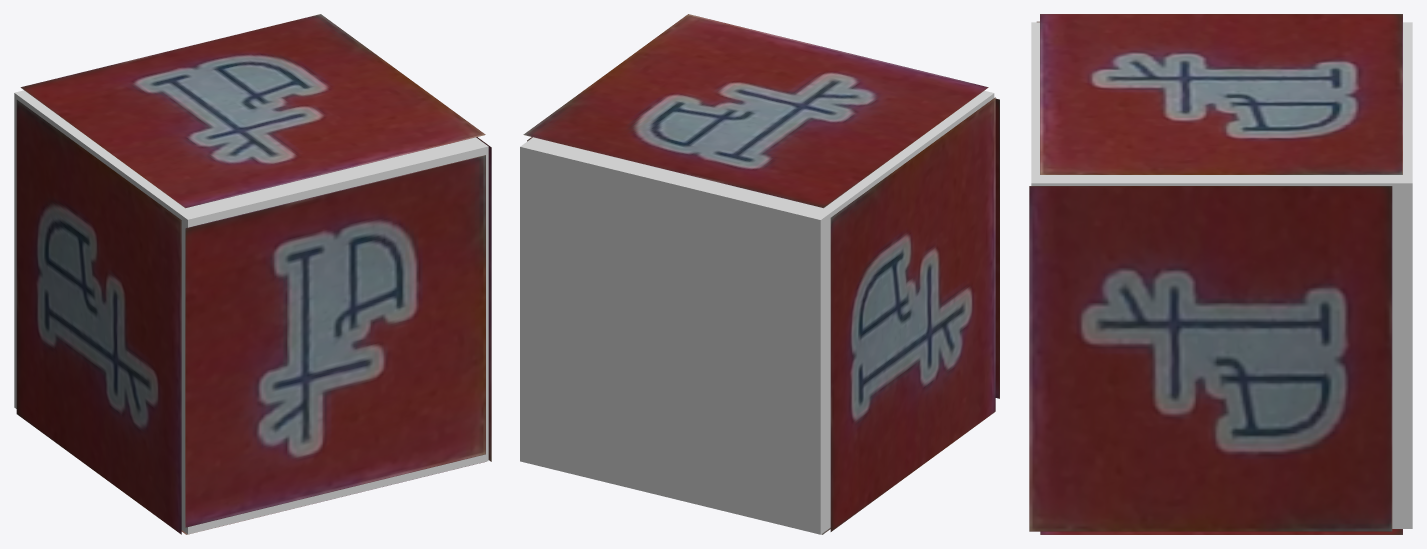
The picture shows the model from 3 angles, left to right: view 1: azimuth 30°, elevation 25°; view 2: azimuth 150°, elevation 25°; view 3: azimuth 270°, elevation 25°; orthographic projection. The views are drawn at different scales.
Visible parts, largest first — view 1: R2.001, R2.002, R2, Link36, R2.004; view 2: Link36, R2.002, R2, R2.001; view 3: R2.004, R2, Link36, R2.003.
Part boxes in pixels (x1,y1,x2,y2): R2.001: (185, 155, 485, 527); R2.002: (16, 100, 181, 534); R2: (20, 14, 485, 208); Link36: (14, 90, 488, 534); R2.004: (476, 137, 491, 461); Link36: (520, 90, 994, 534); R2.002: (830, 97, 995, 531); R2: (523, 14, 988, 208); R2.001: (995, 98, 999, 398); R2.004: (1029, 186, 1392, 531); R2: (1040, 14, 1402, 174); Link36: (1031, 22, 1412, 528); R2.003: (1040, 529, 1402, 534).
Bounding box in the file's own units: 0.3578 × 0.3529 × 0.3637.
Materials: 1 (1 with a texture image).
